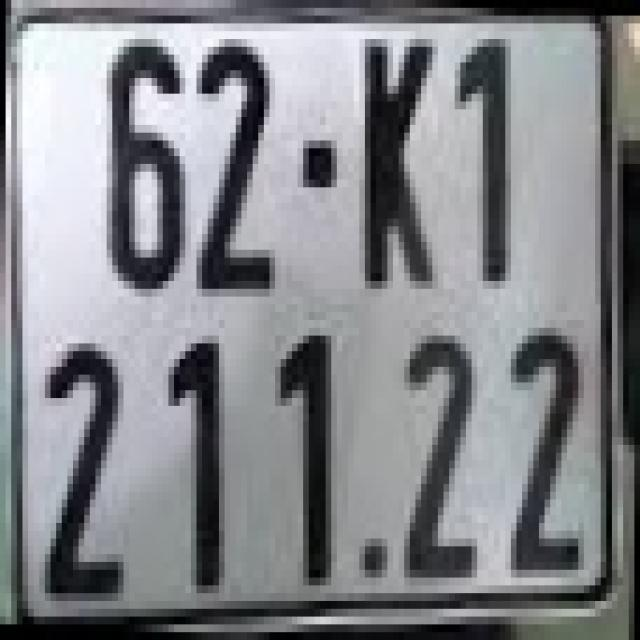1: (272, 328, 346, 585), (163, 336, 236, 593), (452, 39, 519, 281)
2: (39, 343, 129, 601), (194, 39, 278, 297), (401, 332, 480, 582), (505, 332, 584, 574)
6: (107, 35, 185, 293)
K: (359, 35, 438, 293)
